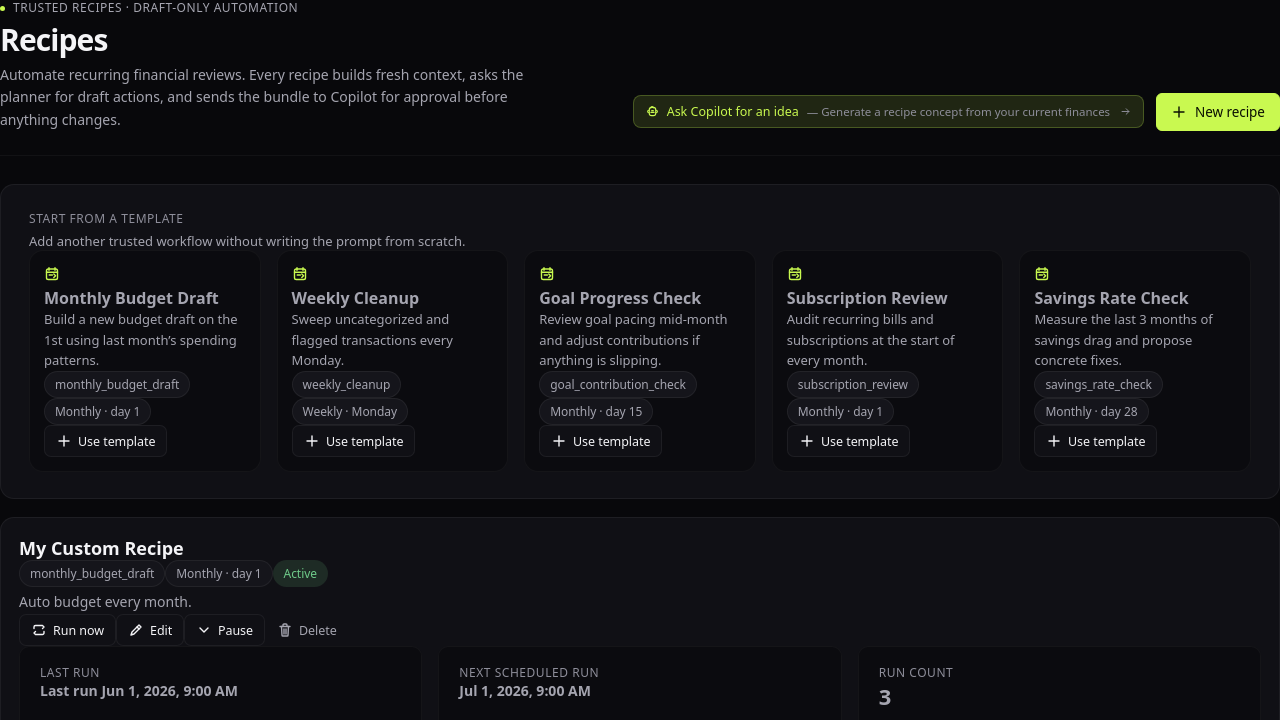
Recipes screen — template use › clicking 'Use template' opens the drawer
This screenshot has width=1280, height=720.
What coordinates should you click on to do the following:
click the button "Use template" below "Monthly Budget Draft"
I would click on:
 (106, 441)
Its box is [44,425,167,457].
(page scrolled)
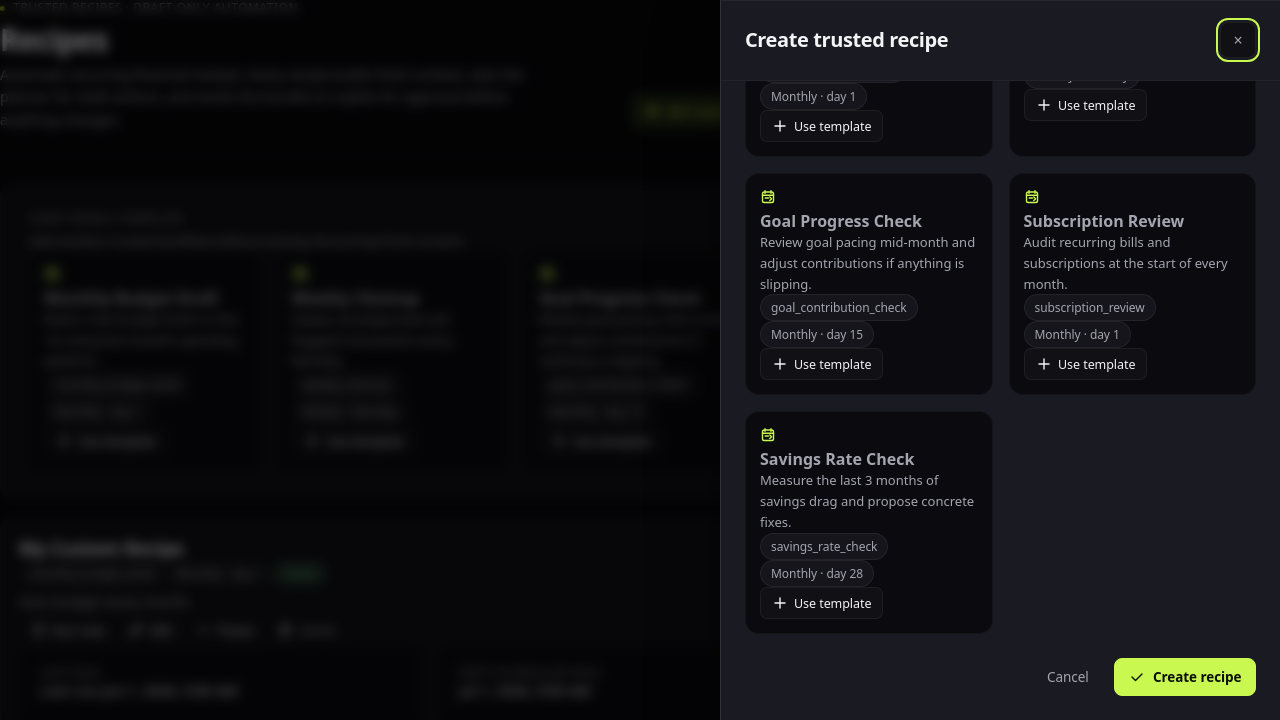
Expected: the button "Create recipe" is shown, [1114,658,1256,696]
